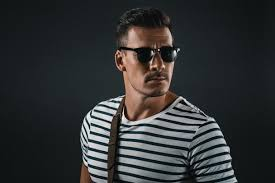g.y: (136, 45, 154, 63)
